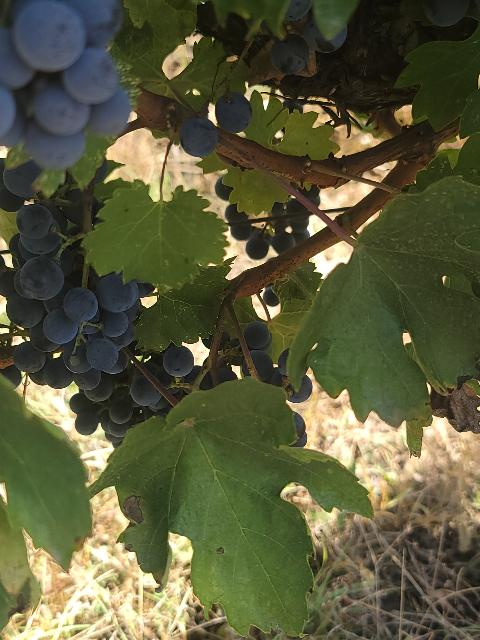grapes: (2, 204, 175, 444), (94, 321, 312, 438), (0, 0, 130, 170)
